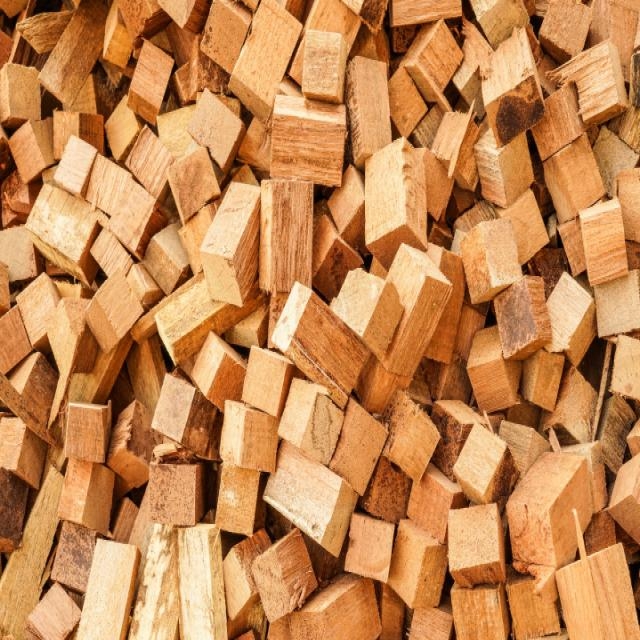green waste: (0, 1, 637, 634)
